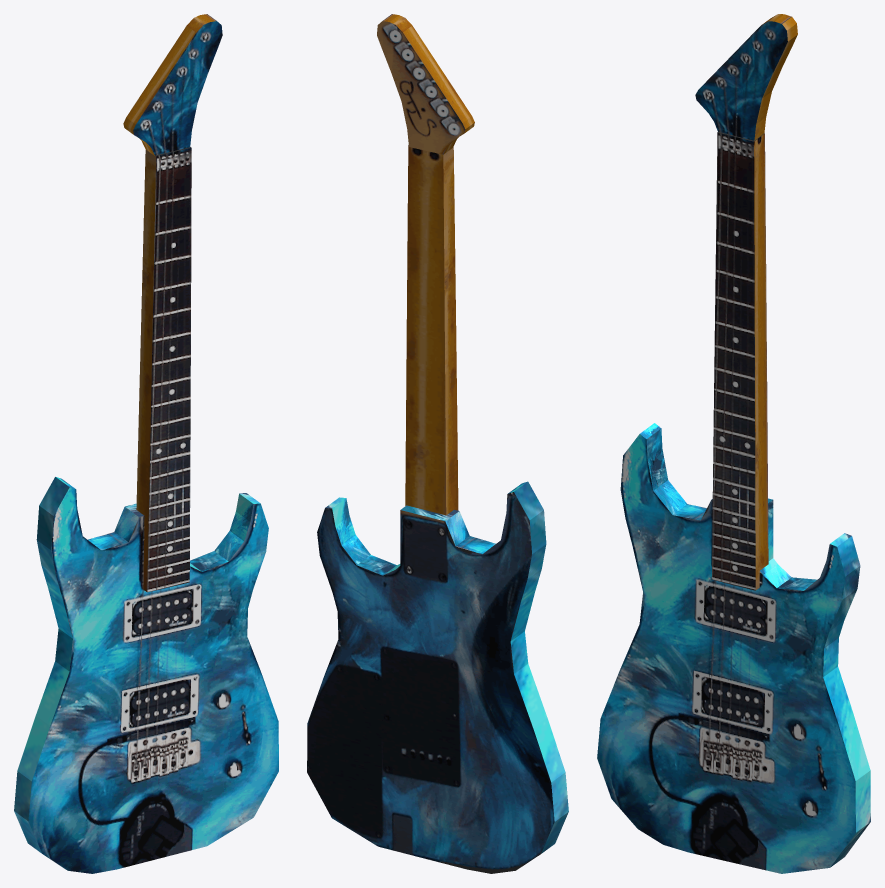
Rendered from guitar.DAE.
3 views of the same model, side by side, from view 1: azimuth 30°, elevation 25°; view 2: azimuth 150°, elevation 25°; view 3: azimuth 330°, elevation 25° (orthographic). The views are drawn at different scales.
Visible parts, largest first — view 1: body, neck01, stock; view 2: body, neck01, stock; view 3: body, neck01, stock.
Part boxes in pixels (<box>): body: <box>14,477,278,873</box>; neck01: <box>136,147,191,592</box>; stock: <box>123,14,222,155</box>; body: <box>307,481,568,873</box>; neck01: <box>405,145,458,515</box>; stock: <box>377,14,474,154</box>; body: <box>597,423,870,873</box>; neck01: <box>711,132,768,590</box>; stock: <box>695,14,797,140</box>.
Bounding box in the file's own units: 320 × 44.38 × 1012.
Materials: 1 (1 with a texture image).
